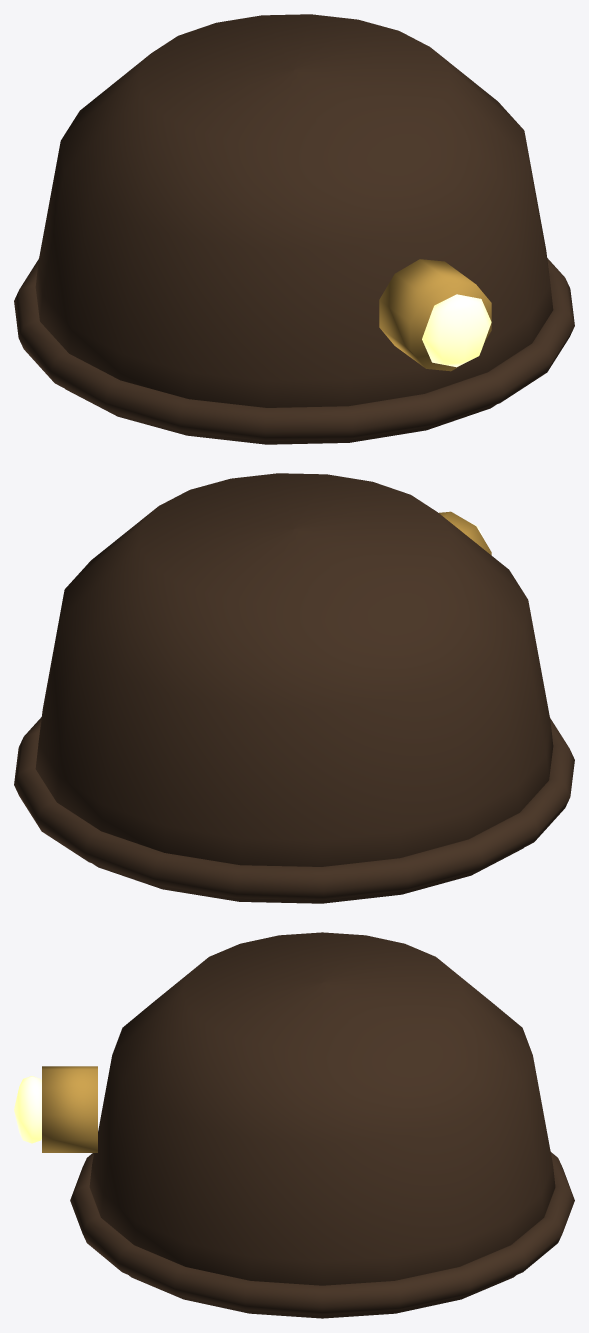
File: grubenhelm.glb
3 renders of one model, top to bottom at view 1: azimuth 30°, elevation 25°; view 2: azimuth 150°, elevation 25°; view 3: azimuth 270°, elevation 25°, orthographic. The views are drawn at different scales.
Parts seen in each view (by area): view 1: d; view 2: d; view 3: d.
Boxes of the visible parts, x1,y1,x2,y2 form: d: (14, 14, 574, 444); d: (14, 473, 574, 903); d: (14, 932, 574, 1318).
Size of the model in its own units: 0.252 by 0.13 by 0.28.
